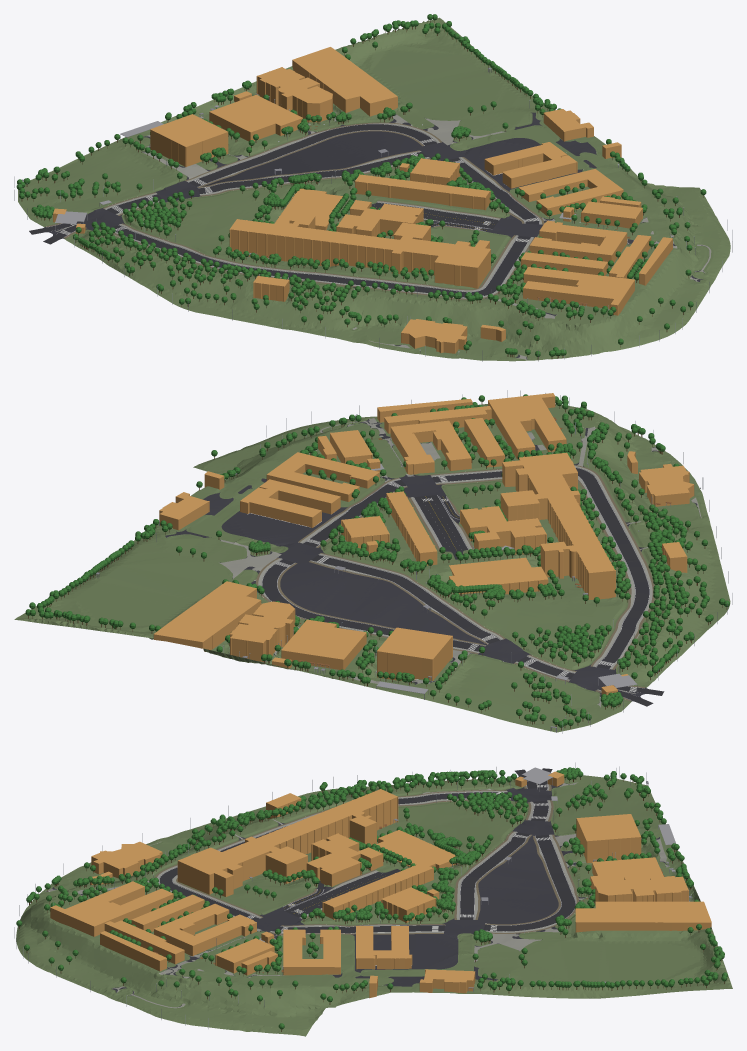
File: campus_maua.obj
The picture shows the model from 3 angles, top to bottom: view 1: azimuth 30°, elevation 25°; view 2: azimuth 150°, elevation 25°; view 3: azimuth 270°, elevation 25°; orthographic projection. The views are drawn at different scales.
Visible parts, largest first — view 1: terreno, edificacoes, props_copa, pavimento_asfalto, pista, acostamento, calcada, props_tronco, pavimento_concreto, sarjeta, meio_fio, coberturas (+1 smaller); view 2: terreno, edificacoes, props_copa, pavimento_asfalto, pista, acostamento, calcada, pavimento_concreto, props_tronco, sarjeta, coberturas, props_metal (+1 smaller); view 3: terreno, edificacoes, props_copa, pavimento_asfalto, pista, acostamento, calcada, pavimento_concreto, props_tronco, sarjeta, coberturas, props_metal (+1 smaller).
Boxes of the visible parts, x1=… form: terreno: x1=18, y1=17, x2=730, y2=361; edificacoes: x1=53, y1=47, x2=672, y2=353; props_copa: x1=16, y1=14, x2=706, y2=356; pavimento_asfalto: x1=44, y1=94, x2=705, y2=359; pista: x1=29, y1=124, x2=539, y2=297; acostamento: x1=46, y1=122, x2=544, y2=299; calcada: x1=104, y1=123, x2=541, y2=298; props_tronco: x1=21, y1=20, x2=703, y2=359; pavimento_concreto: x1=56, y1=93, x2=711, y2=359; sarjeta: x1=47, y1=124, x2=539, y2=293; meio_fio: x1=105, y1=123, x2=541, y2=298; coberturas: x1=55, y1=105, x2=576, y2=231; terreno: x1=14, y1=404, x2=730, y2=732; edificacoes: x1=153, y1=393, x2=694, y2=695; props_copa: x1=25, y1=394, x2=729, y2=727; pavimento_asfalto: x1=165, y1=419, x2=697, y2=703; pista: x1=262, y1=468, x2=664, y2=706; acostamento: x1=255, y1=465, x2=654, y2=701; calcada: x1=258, y1=466, x2=652, y2=691; pavimento_concreto: x1=219, y1=417, x2=701, y2=707; props_tronco: x1=28, y1=402, x2=726, y2=730; sarjeta: x1=261, y1=467, x2=649, y2=700; coberturas: x1=314, y1=463, x2=637, y2=699; props_metal: x1=155, y1=390, x2=732, y2=733; terreno: x1=16, y1=775, x2=732, y2=1036; edificacoes: x1=50, y1=771, x2=711, y2=998; props_copa: x1=16, y1=767, x2=727, y2=1029; pavimento_asfalto: x1=44, y1=776, x2=667, y2=1007; pista: x1=159, y1=768, x2=575, y2=933; acostamento: x1=155, y1=784, x2=578, y2=934; calcada: x1=157, y1=784, x2=576, y2=933; pavimento_concreto: x1=45, y1=782, x2=689, y2=1008; props_tronco: x1=19, y1=777, x2=724, y2=1031; sarjeta: x1=159, y1=781, x2=575, y2=933; coberturas: x1=259, y1=767, x2=676, y2=943; props_metal: x1=14, y1=762, x2=691, y2=1028.
Size of the model in its own units: 402 by 29.17 by 455.
